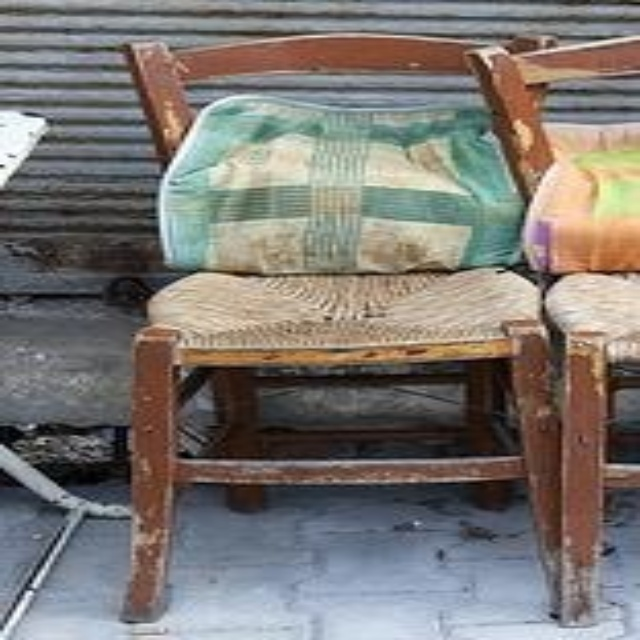obstacle: (127, 35, 636, 624)
